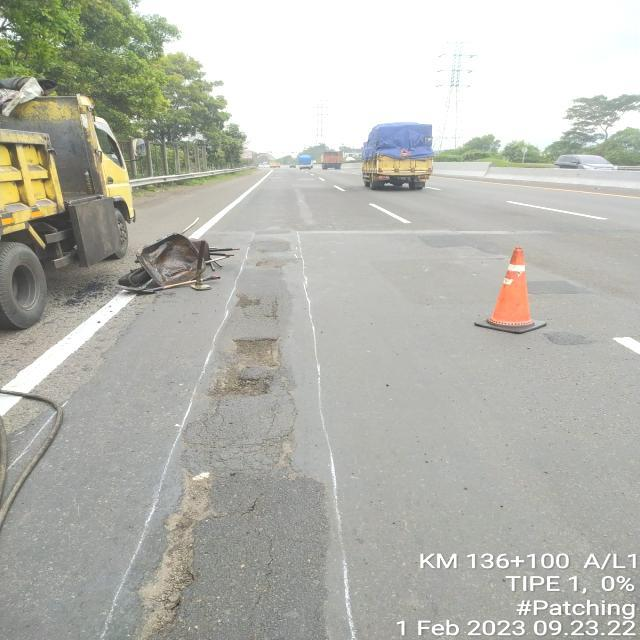Buraco: (127, 464, 221, 640), (203, 335, 284, 400), (233, 292, 263, 310)
